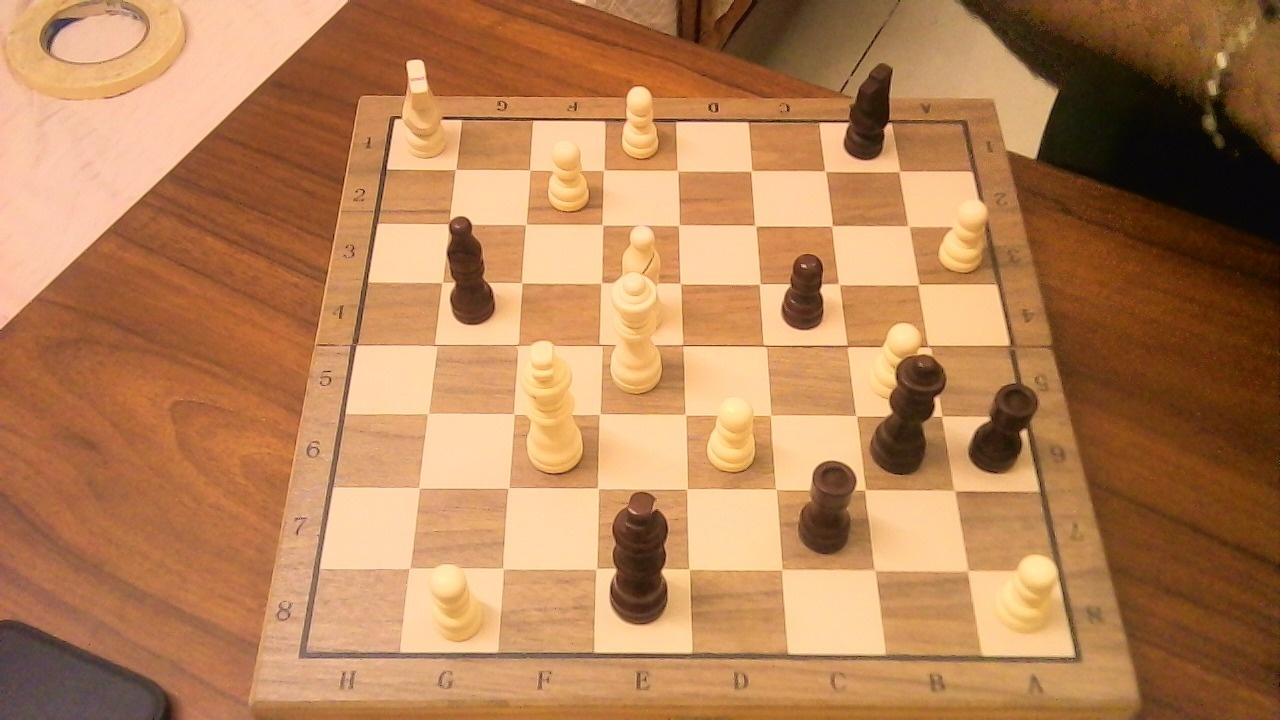B: (608, 215, 667, 316)
K: (516, 329, 591, 478)
N: (394, 75, 452, 163)
P: (988, 544, 1068, 637), (414, 553, 489, 646), (863, 313, 930, 404), (697, 387, 762, 476), (932, 190, 996, 276), (537, 131, 595, 215), (613, 77, 665, 163)
Q: (605, 261, 673, 398)
b: (442, 204, 509, 329)
k: (602, 475, 685, 630)
n: (836, 50, 901, 165)
p: (774, 242, 837, 335)
q: (867, 340, 957, 478)
r: (964, 370, 1048, 477), (791, 448, 869, 558)
